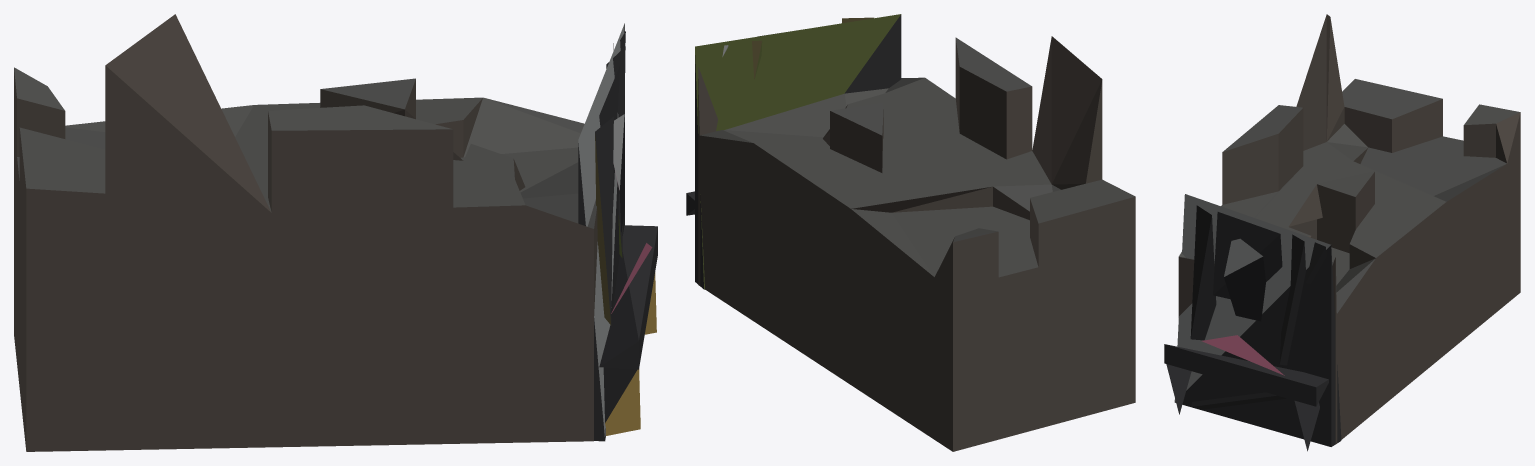
File: casa-rosso.lod2.glb
3 views of the same model, side by side, from view 1: azimuth 30°, elevation 25°; view 2: azimuth 150°, elevation 25°; view 3: azimuth 270°, elevation 25° (orthographic). The views are drawn at different scales.
Parts seen in each view (by area): view 1: lod2; view 2: lod2; view 3: lod2.
Boxes of the visible parts, x1,y1,x2,y2 form: lod2: (14, 14, 657, 451); lod2: (686, 14, 1135, 451); lod2: (1164, 14, 1520, 451).
Size of the model in its own units: 21.85 by 14.61 by 16.59.
